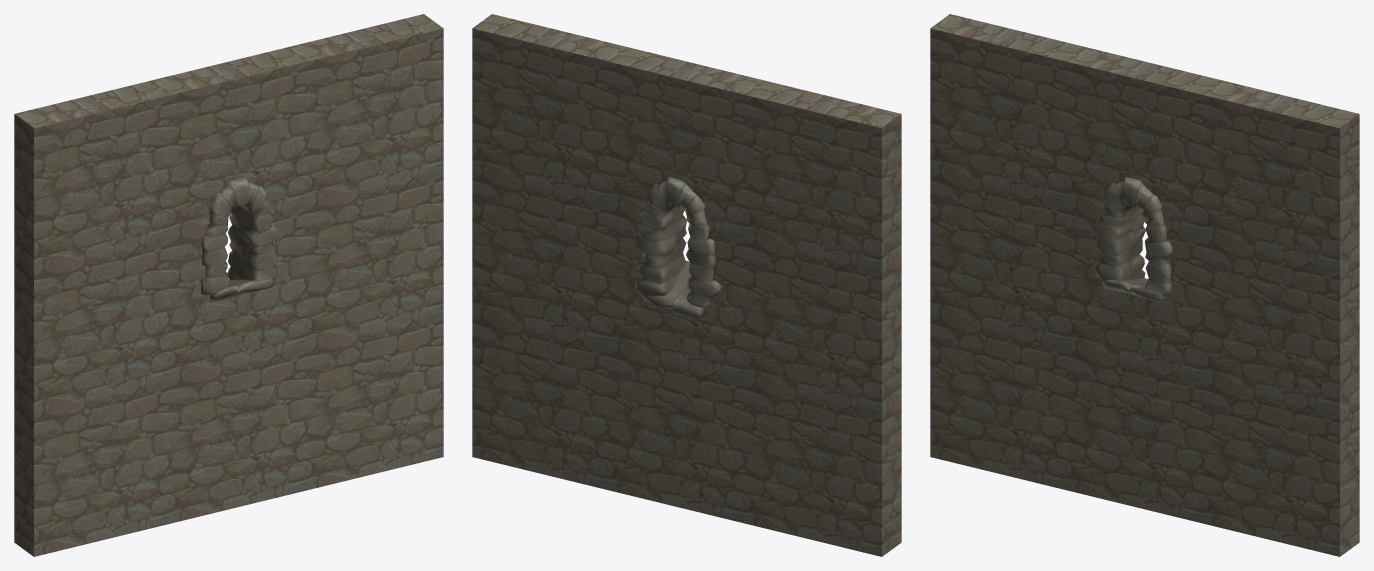
The model's file is SM_FW01_Ruins_Int_Window_A_6x6_01.fbx.
The picture shows the model from 3 angles, left to right: view 1: azimuth 30°, elevation 25°; view 2: azimuth 150°, elevation 25°; view 3: azimuth 330°, elevation 25°; orthographic projection.
Visible parts, largest first — view 1: SM_FW01_Ruins_Int_Window_A_6x6_01, SM_FW01_Ruins_Int_Window_A_6x6_01_LOD0; view 2: SM_FW01_Ruins_Int_Window_A_6x6_01, SM_FW01_Ruins_Int_Window_A_6x6_01_LOD0; view 3: SM_FW01_Ruins_Int_Window_A_6x6_01, SM_FW01_Ruins_Int_Window_A_6x6_01_LOD0.
Part boxes in pixels (bbox=[...]): SM_FW01_Ruins_Int_Window_A_6x6_01: bbox=[14, 14, 443, 556]; SM_FW01_Ruins_Int_Window_A_6x6_01_LOD0: bbox=[201, 178, 278, 301]; SM_FW01_Ruins_Int_Window_A_6x6_01: bbox=[472, 14, 901, 556]; SM_FW01_Ruins_Int_Window_A_6x6_01_LOD0: bbox=[635, 177, 721, 318]; SM_FW01_Ruins_Int_Window_A_6x6_01: bbox=[930, 14, 1359, 556]; SM_FW01_Ruins_Int_Window_A_6x6_01_LOD0: bbox=[1095, 177, 1172, 301].
Size of what is drawn, in the model's own units: 6 by 6 by 0.7647.
